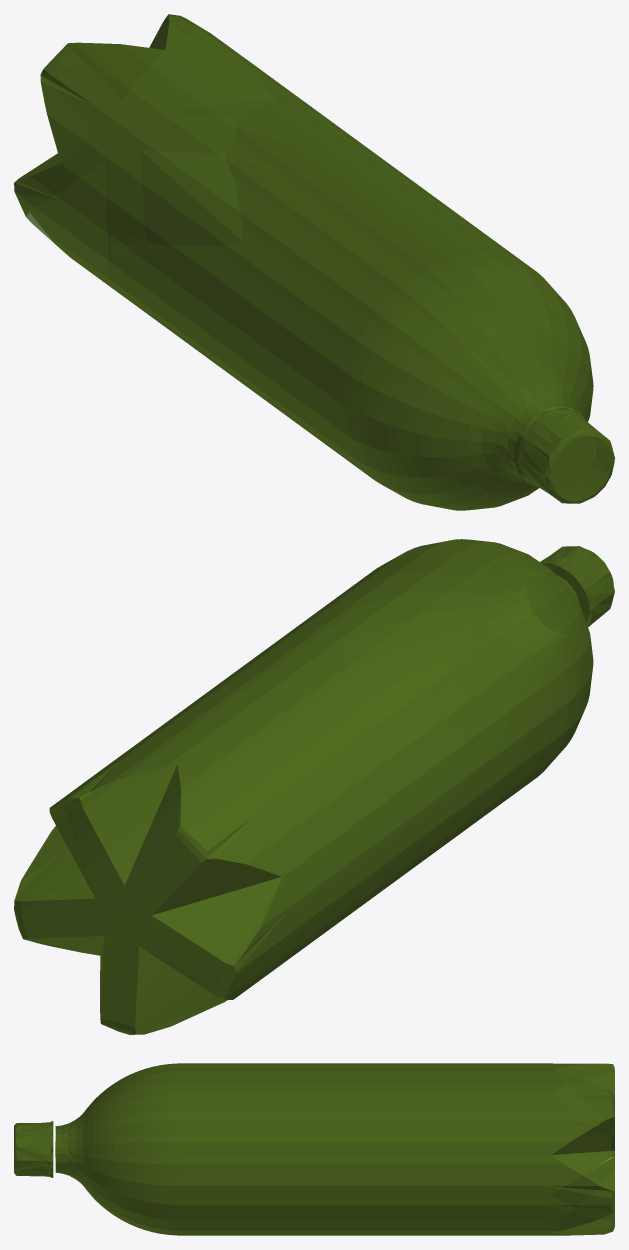
The model's file is model_align.obj.
3 views of the same model, one above another, from view 1: azimuth 30°, elevation 25°; view 2: azimuth 150°, elevation 25°; view 3: azimuth 270°, elevation 25° (orthographic). The views are drawn at different scales.
Size of the model in its own units: 0.0776 by 0.0776 by 0.2701.
